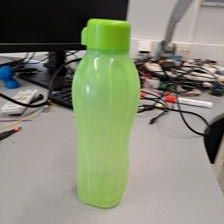bottle: (71, 16, 140, 205)
